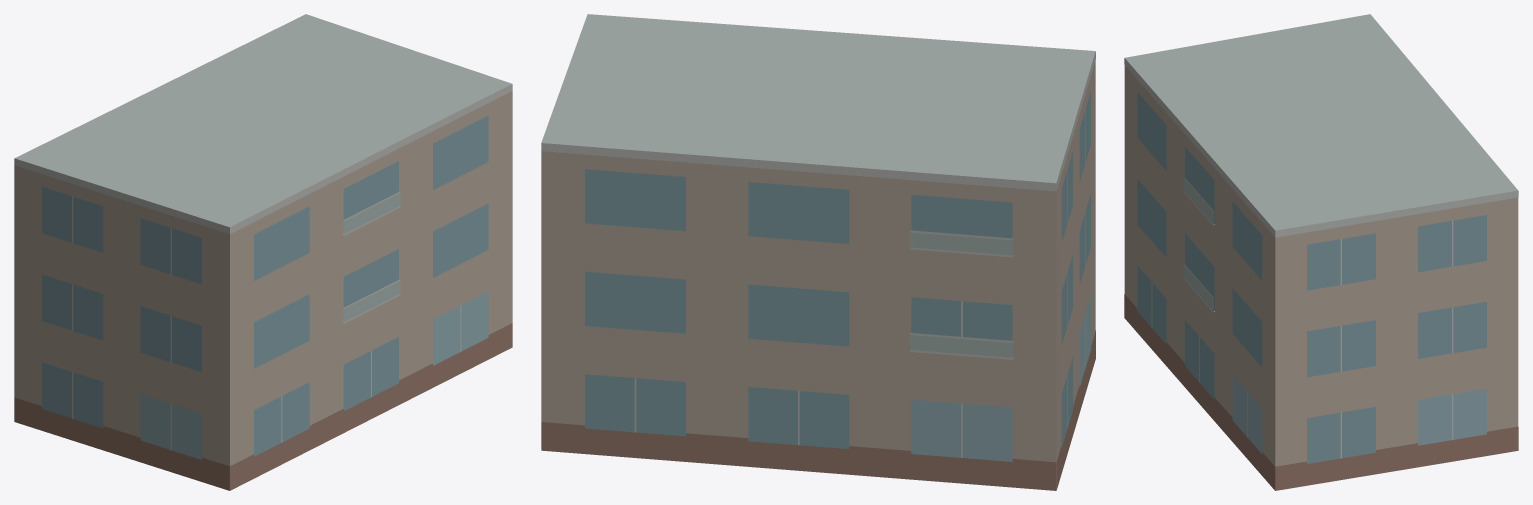
Rendered from survey-upis-32702046.glb.
The picture shows the model from 3 angles, left to right: view 1: azimuth 30°, elevation 25°; view 2: azimuth 150°, elevation 25°; view 3: azimuth 270°, elevation 25°; orthographic projection. The views are drawn at different scales.
Visible parts, largest first — view 1: survey-upis-32702046.tmp; view 2: survey-upis-32702046.tmp; view 3: survey-upis-32702046.tmp.
Boxes of the visible parts, x1,y1,x2,y2 form: survey-upis-32702046.tmp: [14, 14, 512, 490]; survey-upis-32702046.tmp: [541, 14, 1095, 490]; survey-upis-32702046.tmp: [1124, 14, 1518, 490].
Bounding box in the file's own units: 16.36 × 9.15 × 12.57.
